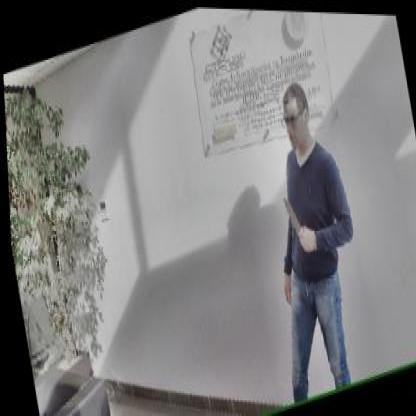knife: (277, 180, 307, 247)
